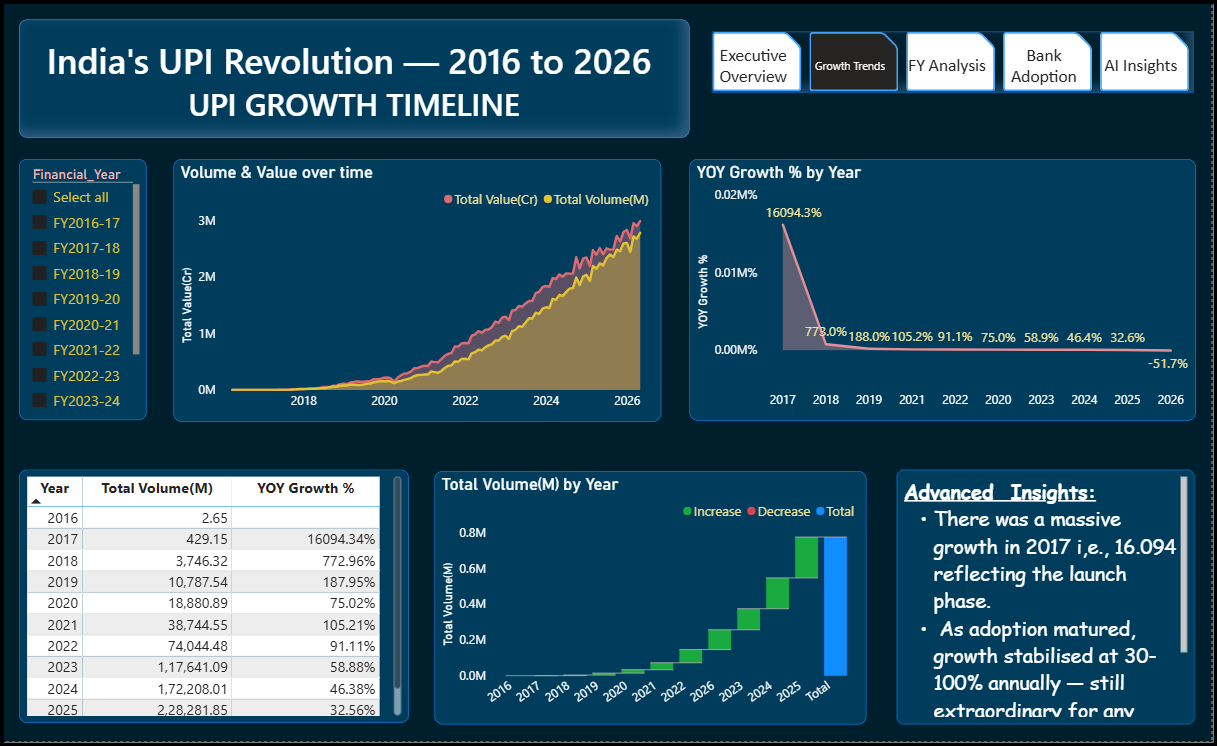

What the dashboard file says about the page in this screenshot:
{"tool":"powerbi","page":{"name":"Growth Trends","canvas":[1470,900],"ordinal":1},"visuals":[{"type":"textbox","box":[18.6,20.9,816.4,144.2],"z":0},{"type":"areaChart","title":"Volume & Value over time","fields":{"Category":["upi_transactions.Month.Variation.Date Hierarchy.Year","upi_transactions.Month.Variation.Date Hierarchy.Quarter","upi_transactions.Month.Variation.Date Hierarchy.Month","upi_transactions.Month.Variation.Date Hierarchy.Day"],"Y":["-Measures.Total Value"],"Y2":["-Measures.Total Volume"]},"box":[206.4,190,593.7,319.7],"z":1000},{"type":"tableEx","fields":{"Values":["upi_transactions.Year","-Measures.Total Volume","-Measures.YOY Growth %"]},"box":[18.3,568.1,475,308.7],"z":2000},{"type":"lineChart","fields":{"Category":["upi_transactions.Year"],"Y":["-Measures.YOY Growth %"]},"box":[835,190.7,616.4,318.7],"z":3000},{"type":"waterfallChart","fields":{"Category":["upi_transactions.Year"],"Y":["-Measures.Total Volume"]},"box":[524.3,570,526.1,308.7],"z":4000},{"type":"slicer","title":"S L I C E R ","fields":{"Values":["upi_transactions.Financial_Year"]},"box":[18.3,190,155.3,317.9],"z":5000},{"type":"textbox","box":[1087,568.1,363.5,310.6],"z":6000},{"type":"pageNavigator","box":[862.3,34.7,586.4,74.9],"z":7000}]}

Visuals, with their boxes in screenshot pixels (x1, y1, x2, y2), scaled from the page's 1470x900 canvas onto the 1217x746 screenshot:
textbox: region(15, 17, 691, 137)
"Volume & Value over time" areaChart: region(171, 157, 662, 422)
tableEx - upi_transactions.Year x -Measures.Total Volume: region(15, 471, 408, 727)
lineChart - upi_transactions.Year x -Measures.YOY Growth %: region(691, 158, 1202, 422)
waterfallChart - upi_transactions.Year x -Measures.Total Volume: region(434, 472, 870, 728)
"S L I C E R " slicer: region(15, 157, 144, 421)
textbox: region(900, 471, 1201, 728)
pageNavigator: region(714, 29, 1199, 91)
